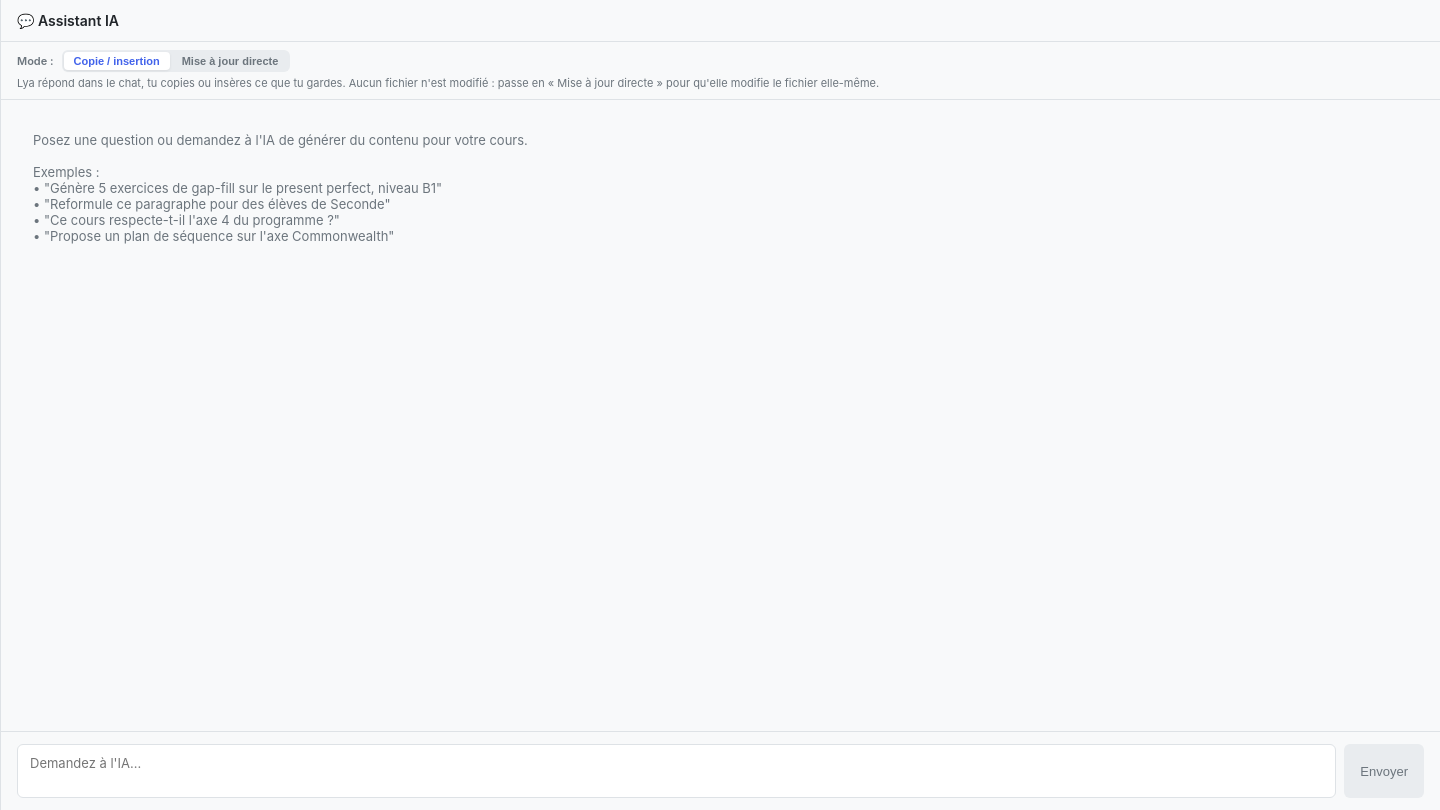
Test: Chat › mode Desk inlines the file content into the prompt
Type "Complète ce cours" into the text box with placeholder "Demandez à l'IA..." at (677,771), box [17,744,1336,798]
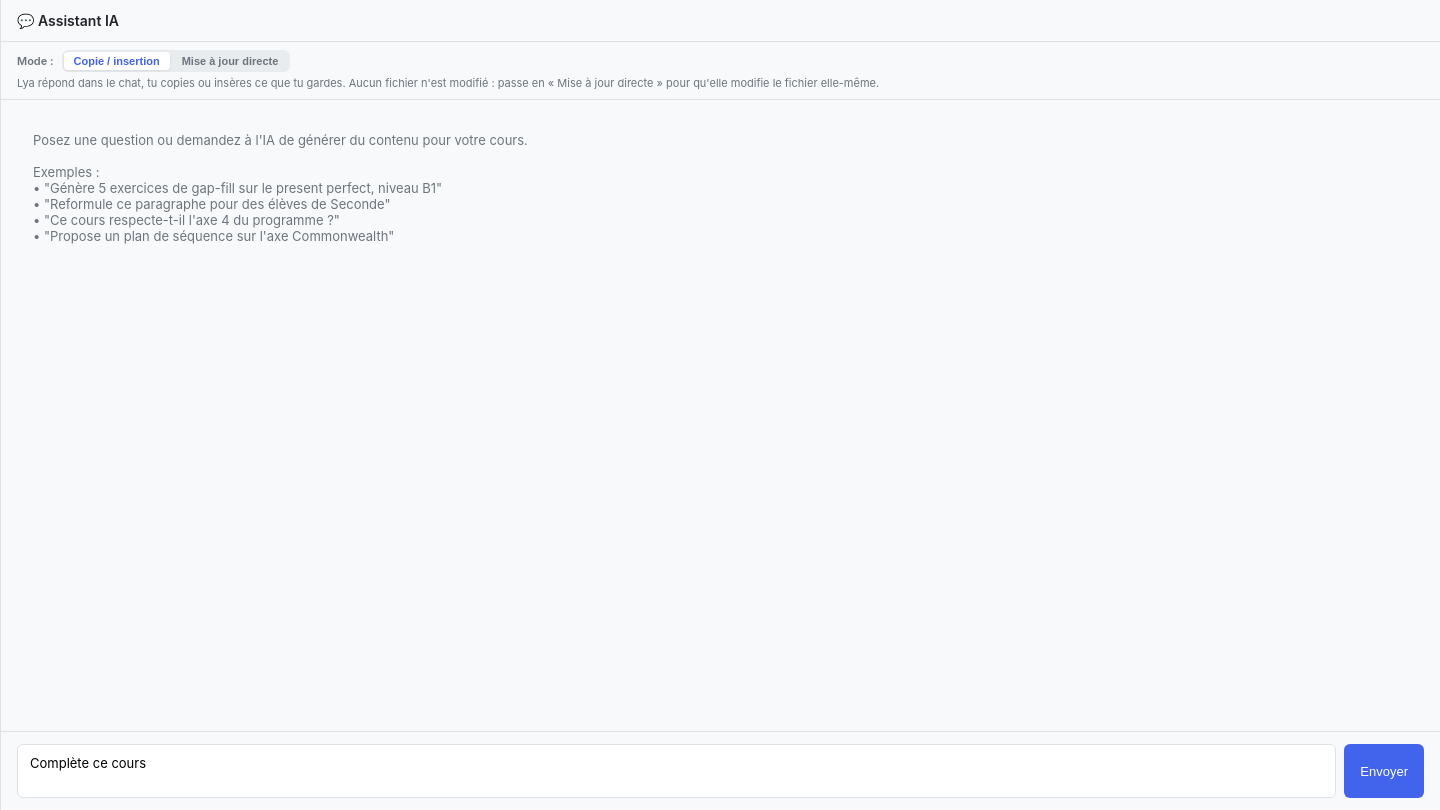
Click the button "Envoyer" at (1384,771), box [1344,744,1424,798]
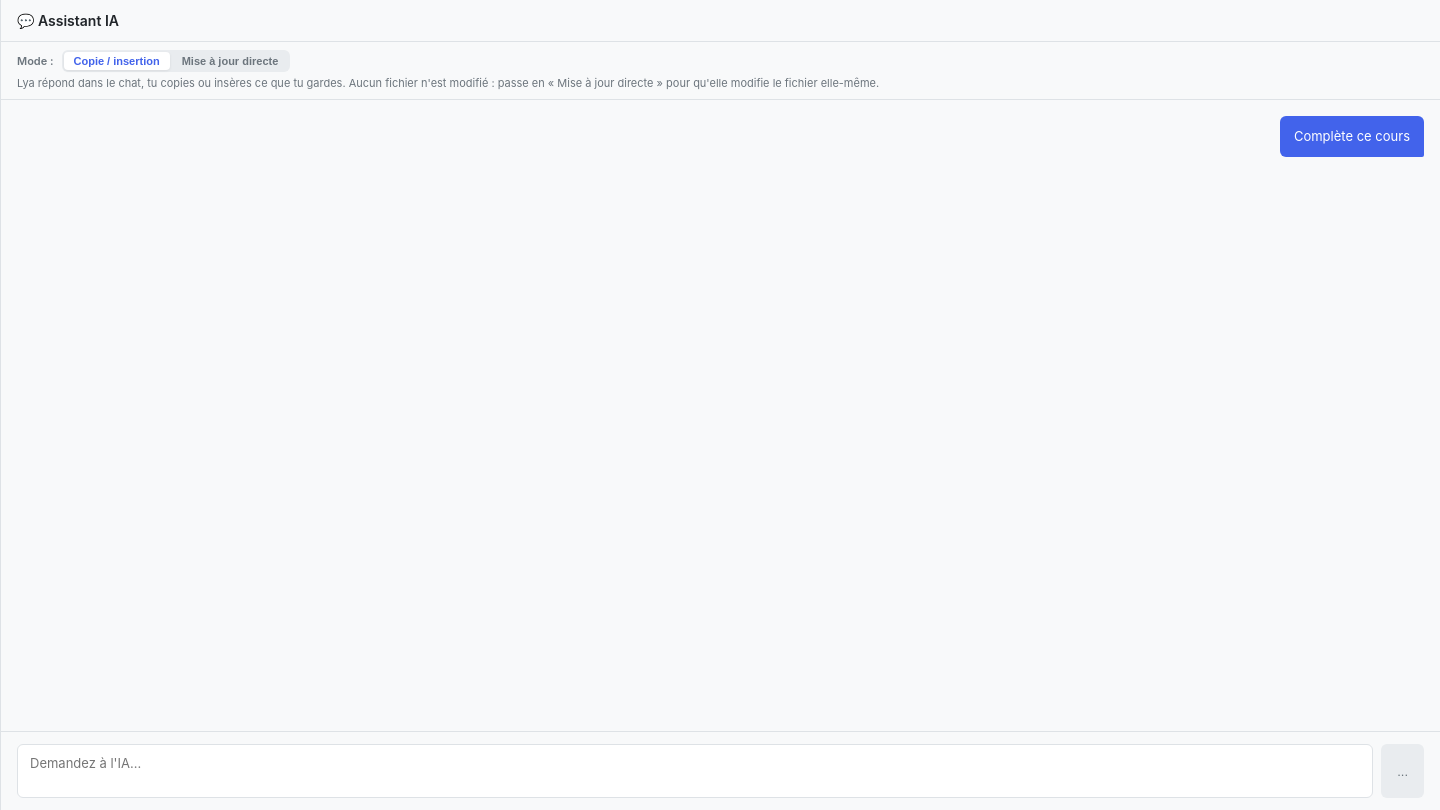
Expected: the text "Complète ce cours" is shown, [1294,126,1410,147]
